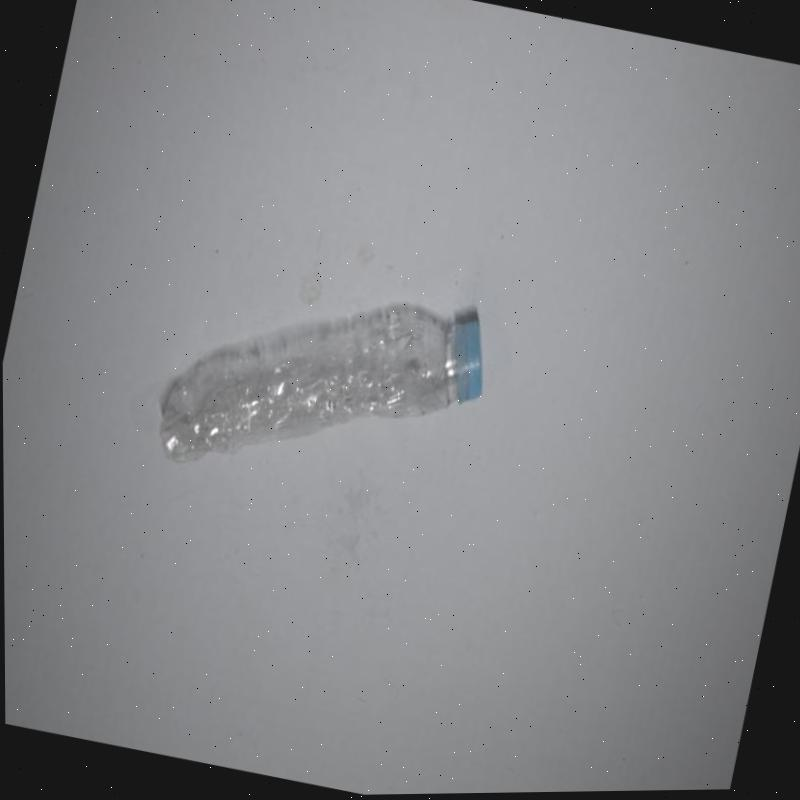botella: (148, 251, 497, 524)
